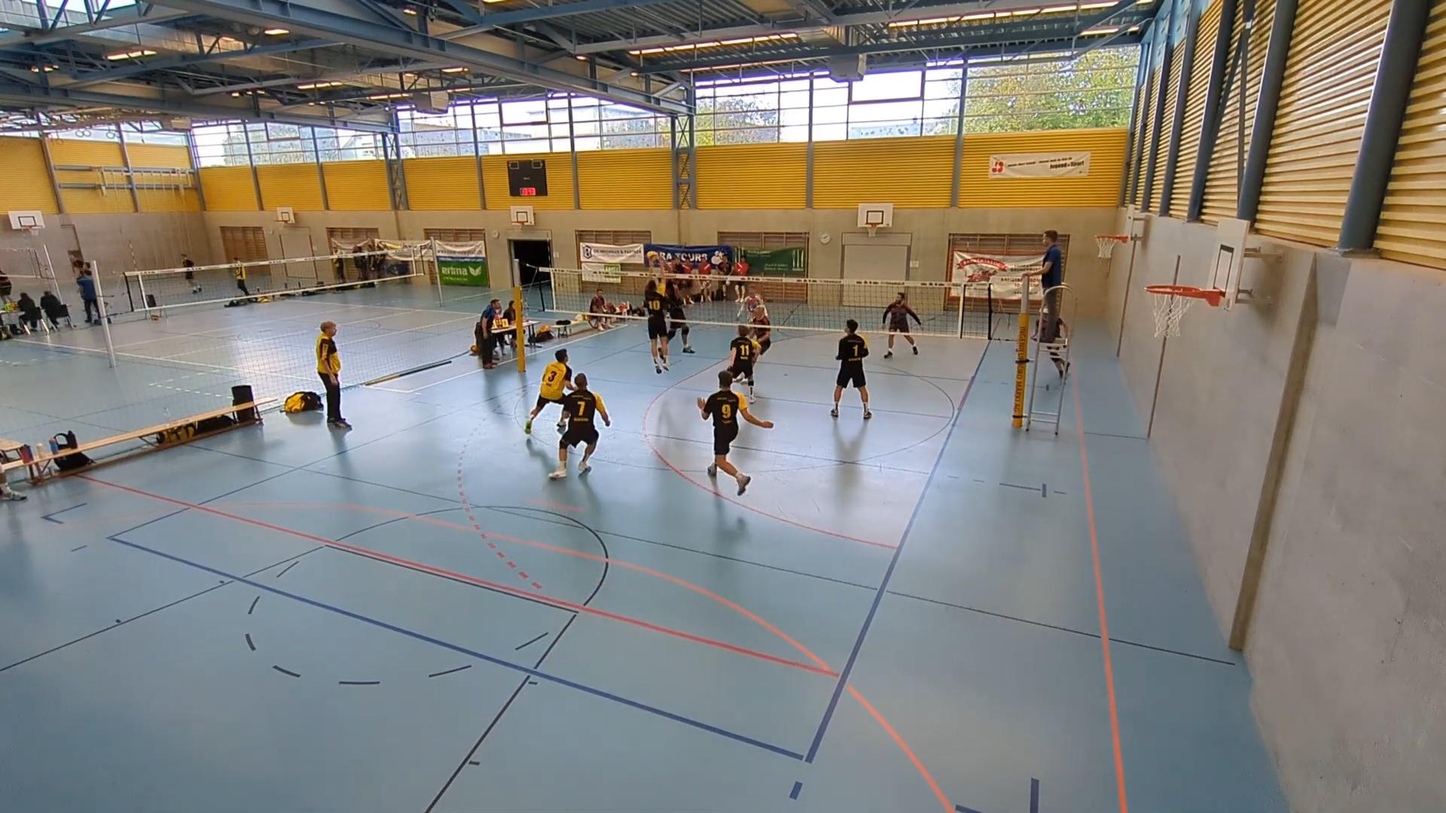muro: (638, 253, 676, 379)
